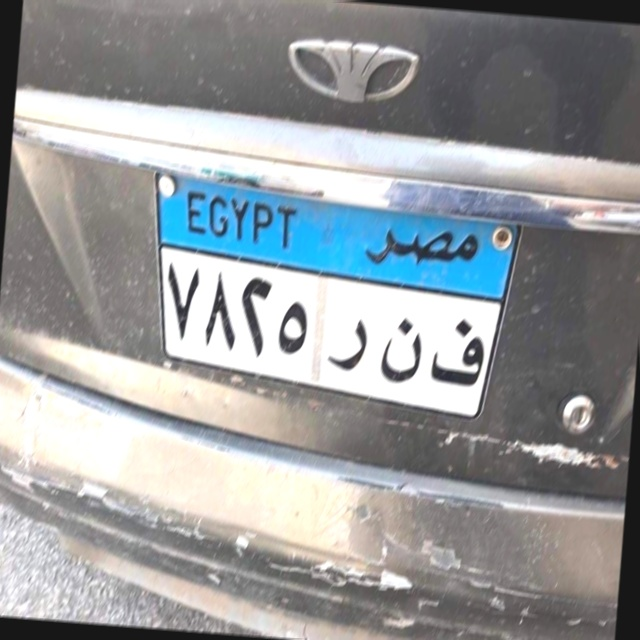License Plate: (135, 168, 530, 427)
